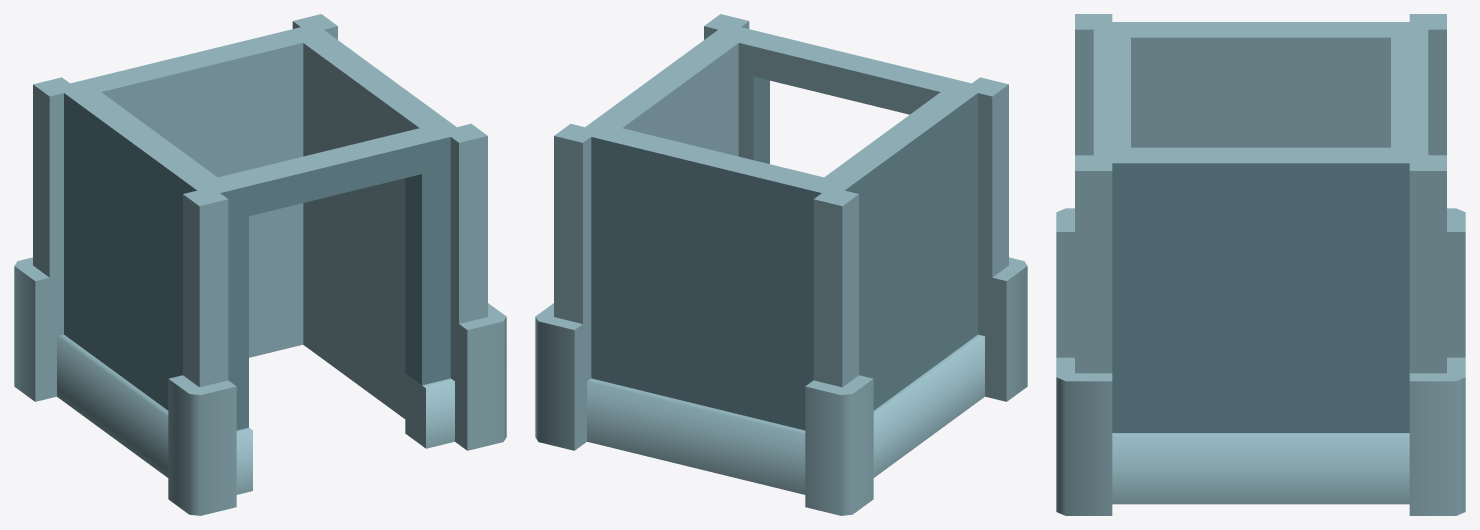
The model's file is cryptSmall.fbx.
3 renders of one model, left to right at view 1: azimuth 30°, elevation 25°; view 2: azimuth 150°, elevation 25°; view 3: azimuth 270°, elevation 25°, orthographic. The views are drawn at different scales.
Parts seen in each view (by area): view 1: cryptSmall; view 2: cryptSmall; view 3: cryptSmall.
Boxes of the visible parts, <box> form: cryptSmall: <box>14,14,506,515</box>; cryptSmall: <box>535,14,1027,515</box>; cryptSmall: <box>1056,14,1465,515</box>.
Bounding box in the file's own units: 11 × 10 × 11.
